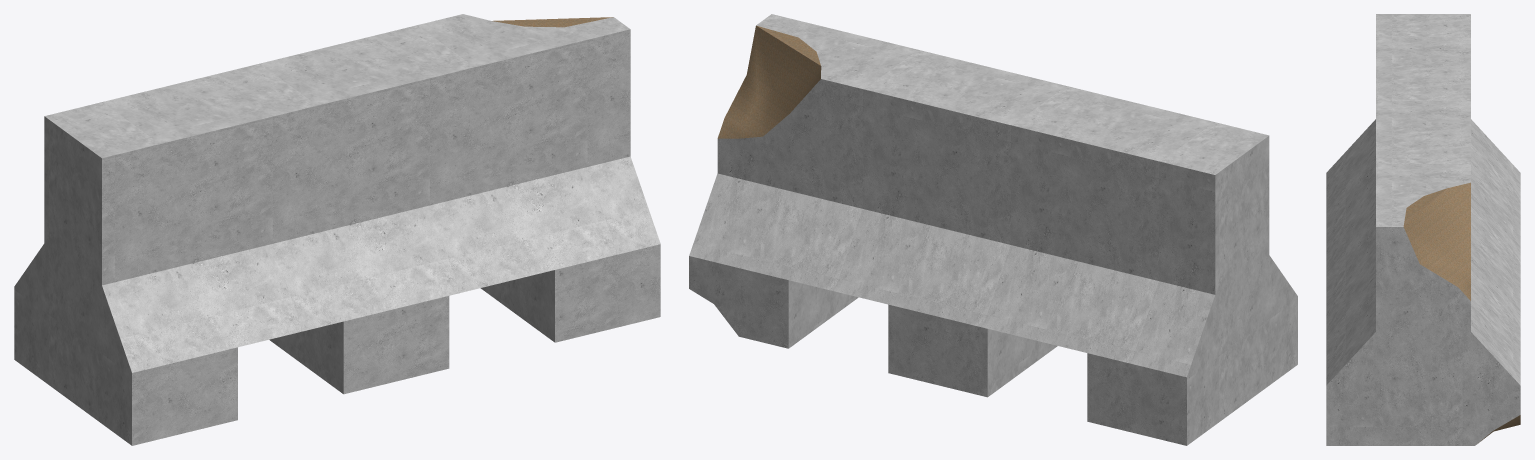
File: Cement_Block_01.FBX
3 renders of one model, left to right at view 1: azimuth 30°, elevation 25°; view 2: azimuth 150°, elevation 25°; view 3: azimuth 270°, elevation 25°, orthographic. The views are drawn at different scales.
Parts seen in each view (by area): view 1: Box001; view 2: Box001; view 3: Box001.
Boxes of the visible parts, bbox=[...] form: Box001: bbox=[14, 14, 660, 445]; Box001: bbox=[689, 14, 1297, 445]; Box001: bbox=[1326, 14, 1520, 445].
Size of the model in its own units: 260 by 125 by 100.
Materials: 2 (2 with a texture image).
